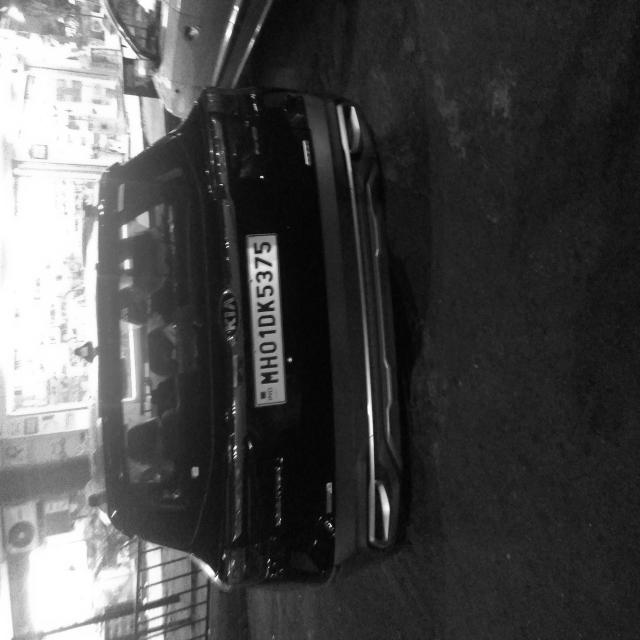car: (26, 80, 426, 552)
license-plate: (163, 322, 311, 382)
